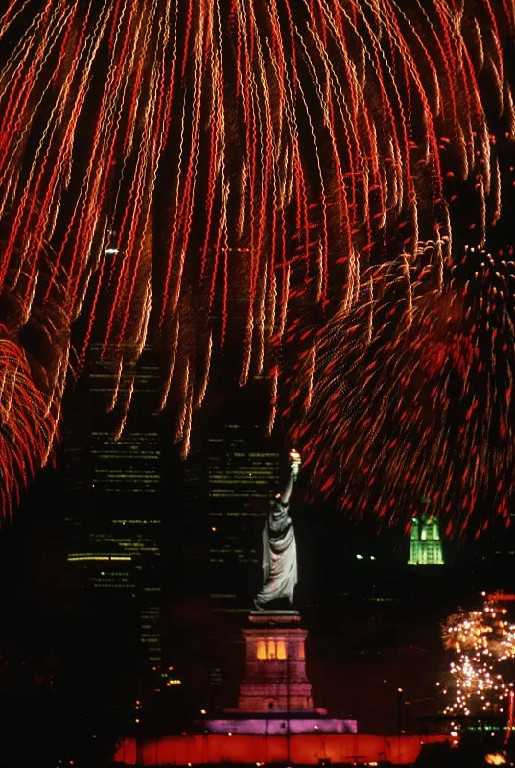SL: (238, 446, 317, 711)
